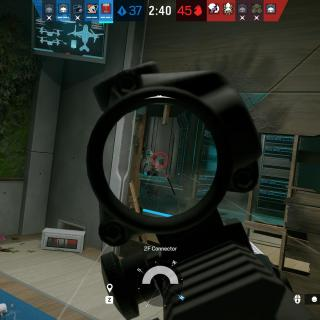Character: (143, 150, 160, 178)
Friend_label: (5, 302, 22, 313)
Head: (146, 150, 153, 158)
